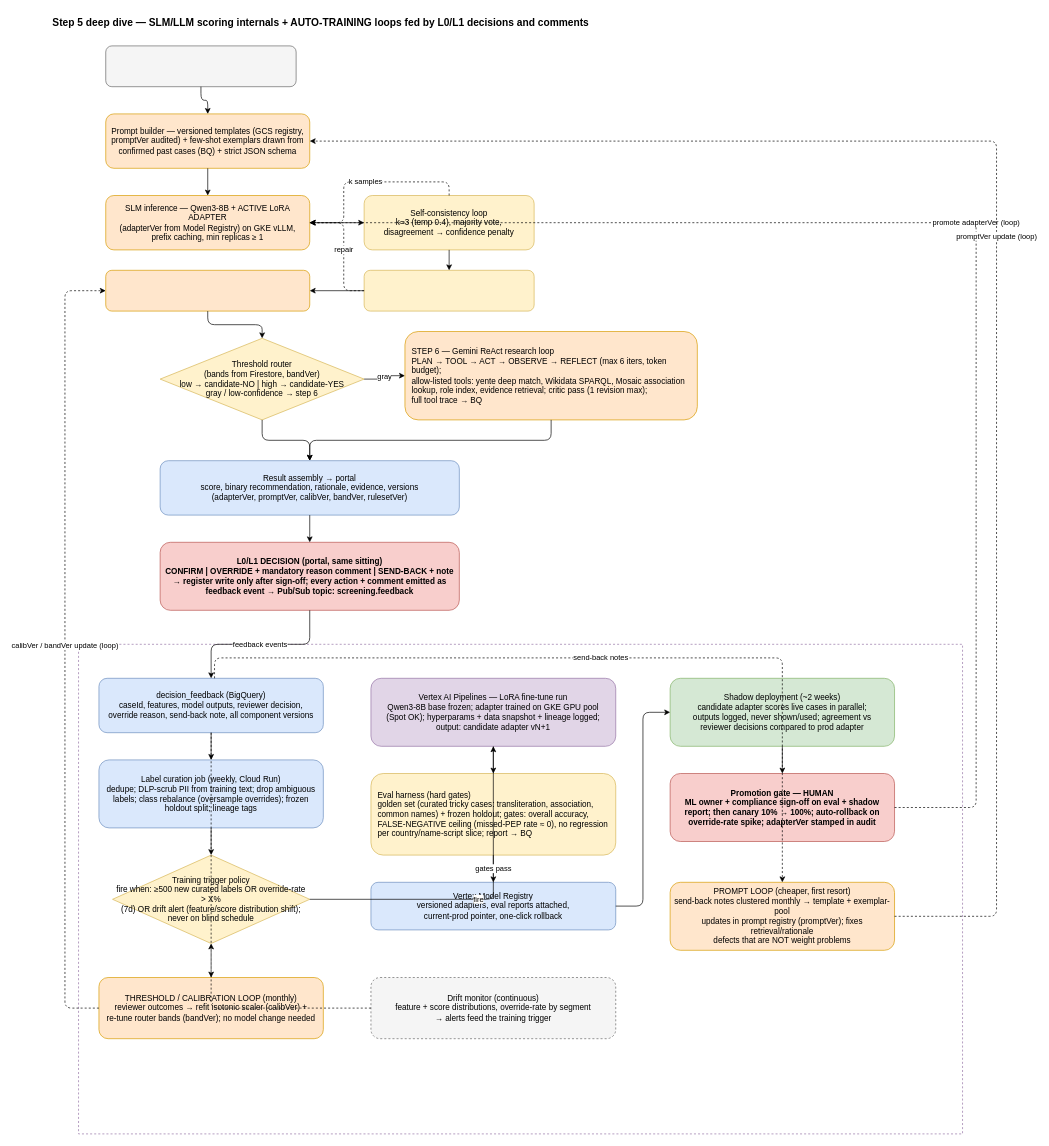
This 1049x1146 diagram has some shape labels left out. The shapes that lost their labels are listed below. From the top down, each one's box as (x1, y1, x2, y2) in pixels, then its label:
(105, 45, 296, 87): Input: rule survivors + feature vector (DLP-tokenised at this boundary)
(105, 270, 310, 311): Calibration — isotonic scaler (calibVer; refreshed by threshold loop below)
(363, 270, 534, 311): JSON validate + repair loop max 2 re-prompts → still invalid → escalate
(78, 644, 963, 1134): AUTO-TRAINING SUBSYSTEM (offline; no self-promotion — human ML-owner gate)
